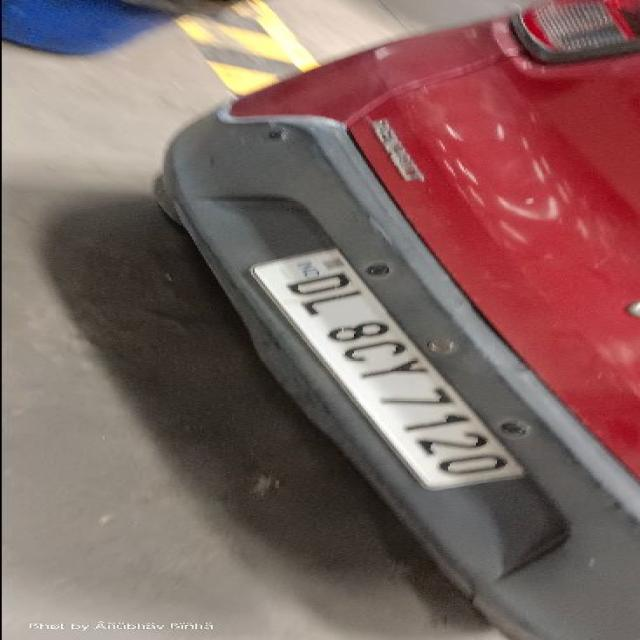license_plate: (152, 0, 636, 638)
